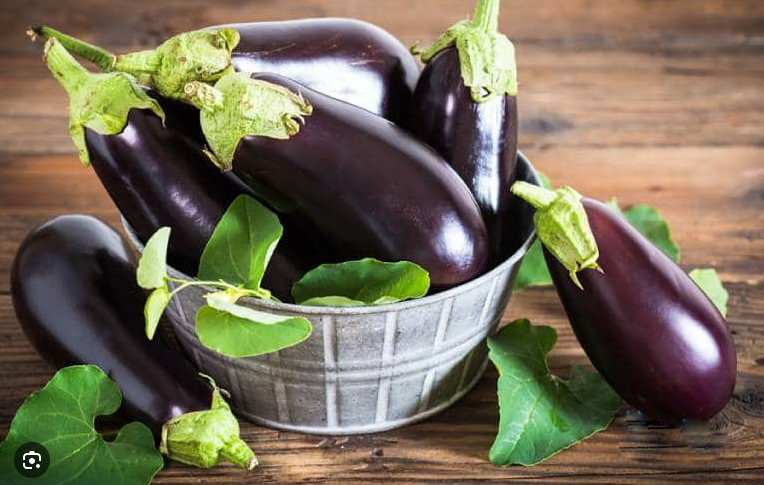catim: (192, 63, 487, 294), (499, 174, 755, 437), (4, 209, 256, 463), (50, 57, 226, 247), (397, 9, 525, 223), (127, 20, 422, 103)
